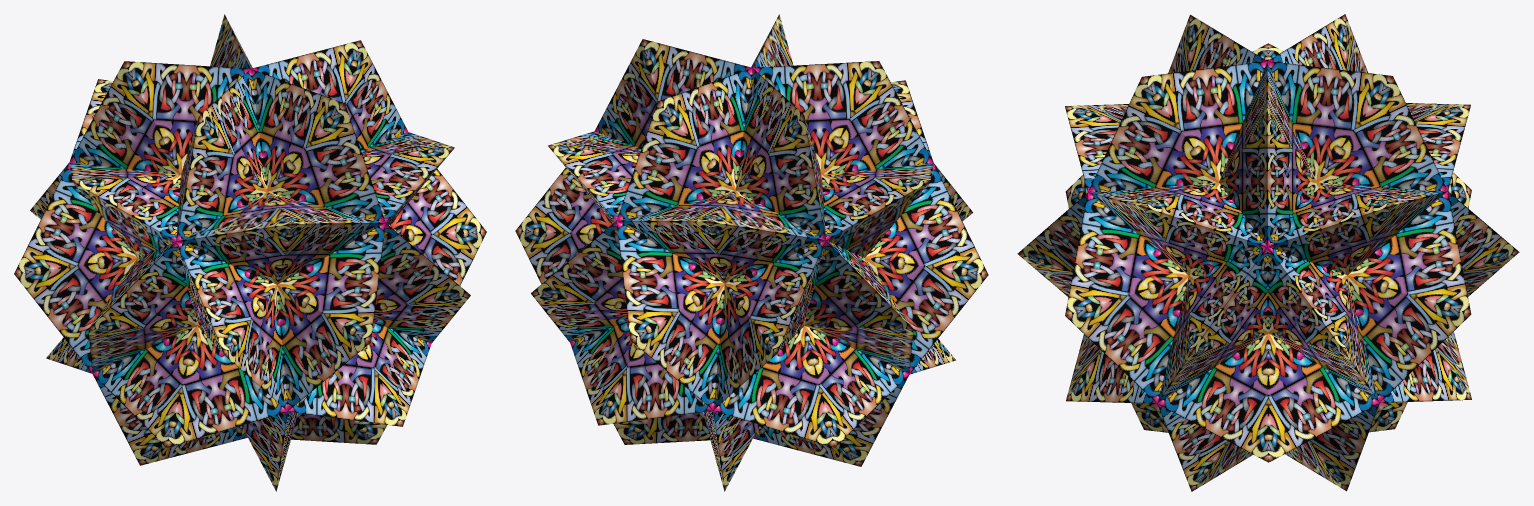
Rendered from 33Mobius120a.obj.
The picture shows the model from 3 angles, left to right: view 1: azimuth 30°, elevation 25°; view 2: azimuth 150°, elevation 25°; view 3: azimuth 270°, elevation 25°; orthographic projection. The views are drawn at different scales.
Size of the model in its own units: 3.62 by 3.25 by 3.8.
1 material, 1 textured.
